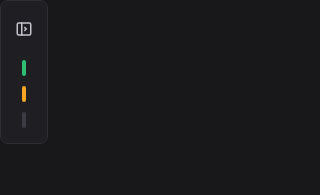
LessonRail › opens from a segment, shows names and progress, and remembers the choice
Click the button named "3. Boss: FizzBuzz, not started" at (24, 120), box [8,109,40,131]
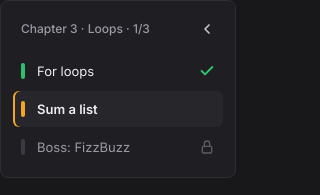
Check: the text "Chapter 3 · Loops · 1/3" is shown, box [21,21,150,37]
Click the button named "Close outline" at (207, 29), box [191,13,223,45]
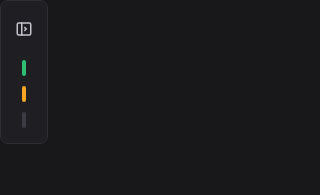
Check: the text "Chapter 3 · Loops · 1/3" is gone
